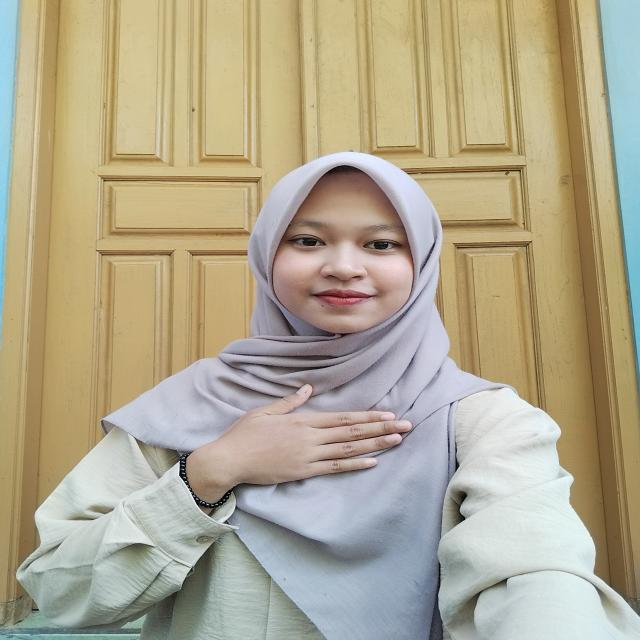tolong: (158, 376, 410, 506)
